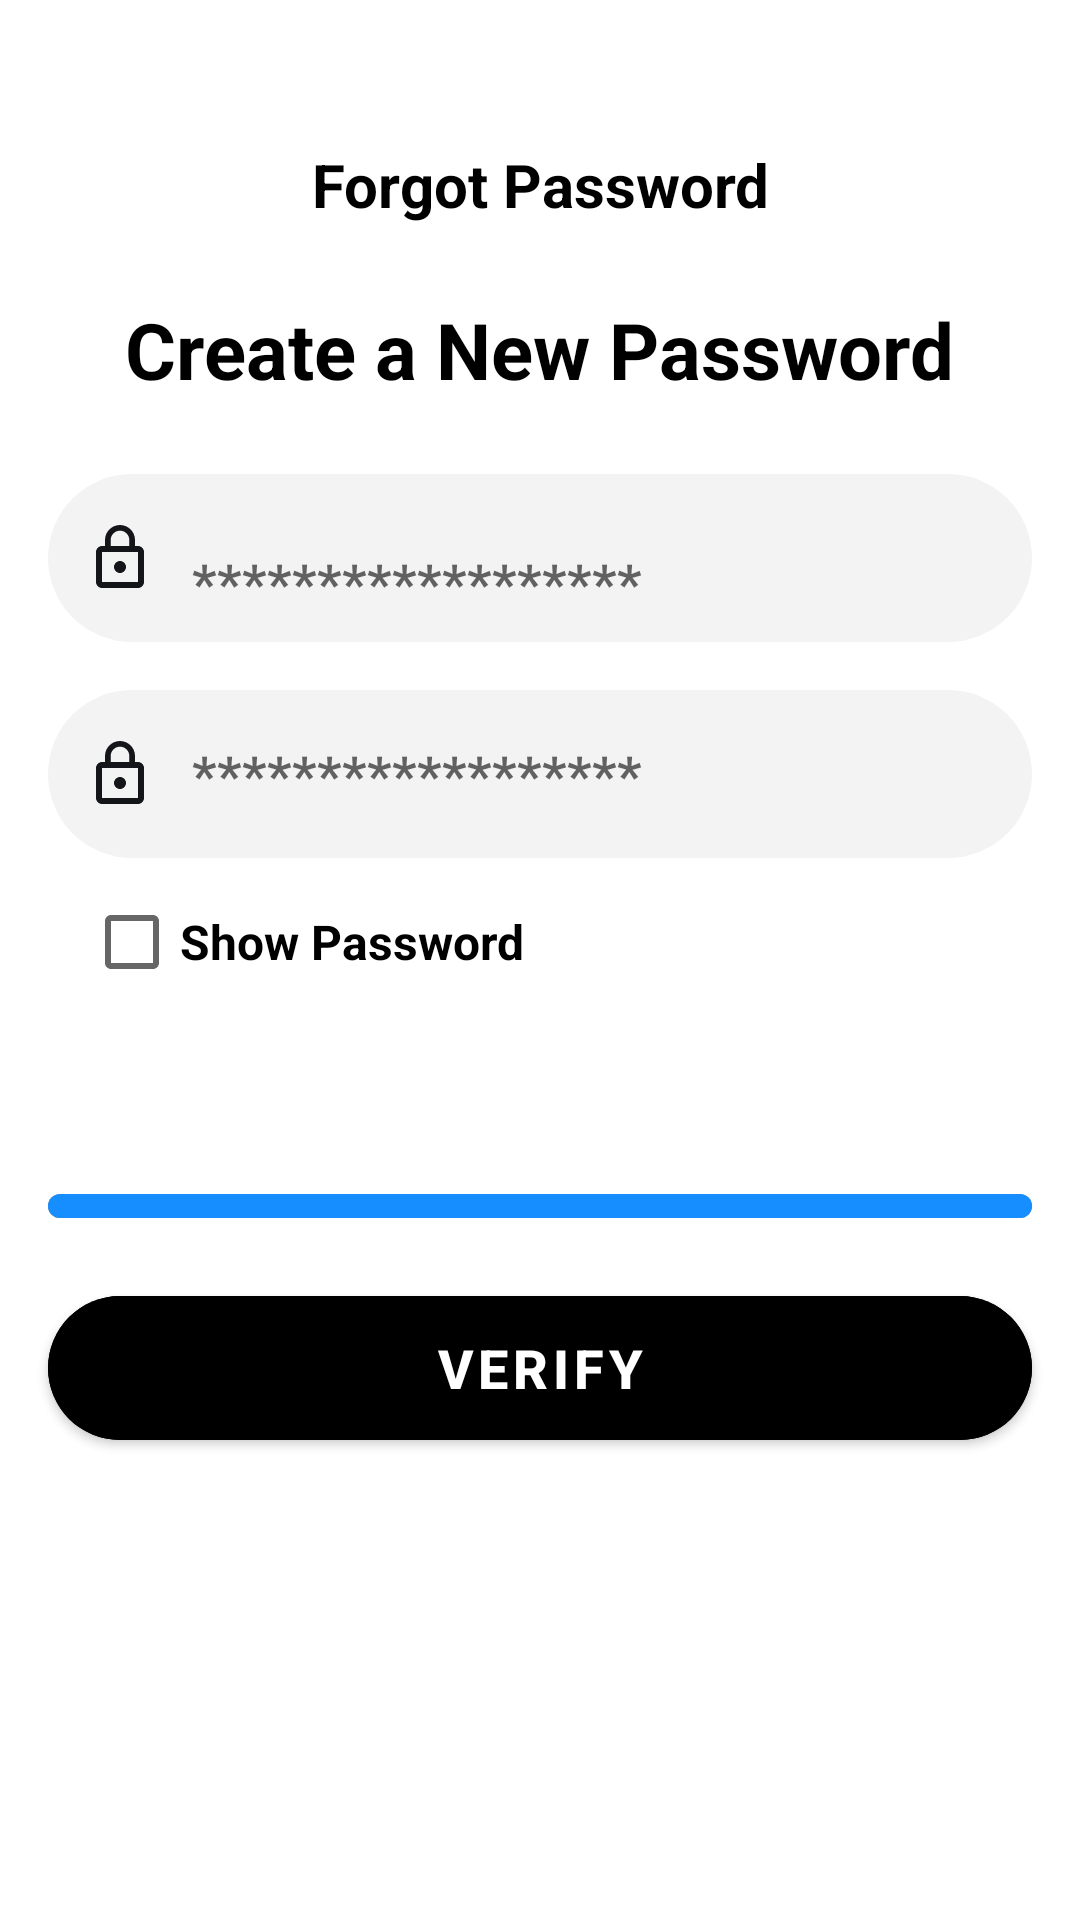

Icon bounding boxes for this 1080px×1920px phone screenshot, format (x1,y1,x2,y2):
lock: (96,525,144,588), (96,741,144,804)
